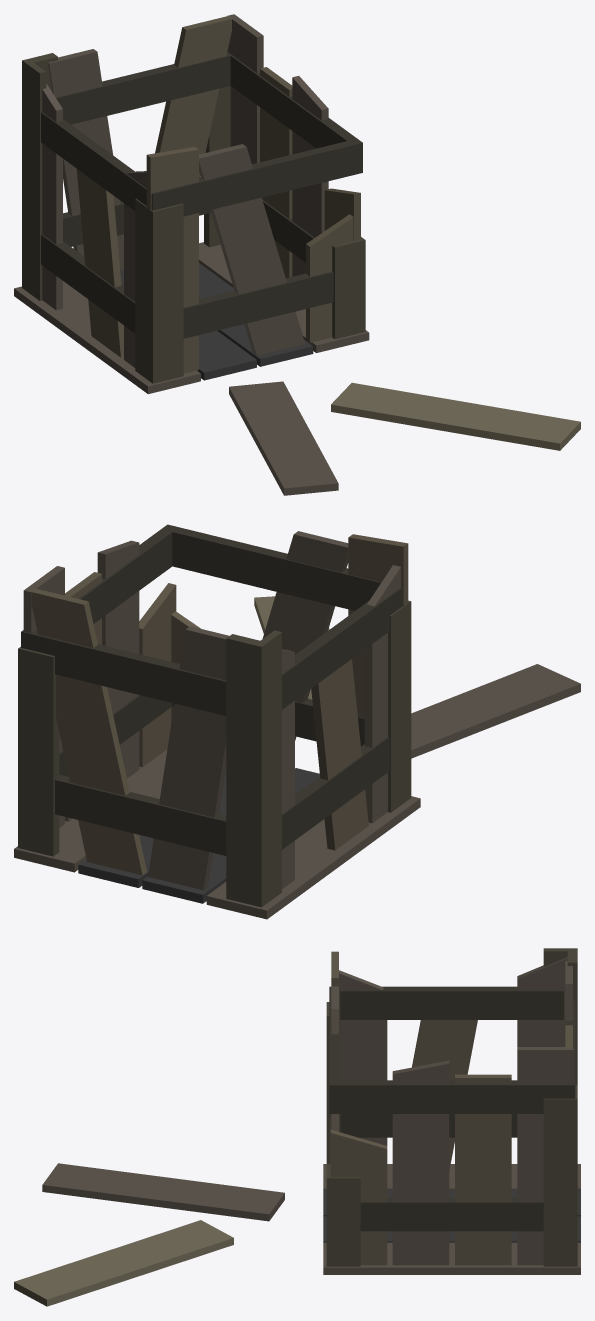
3 views of the same model, one above another, from view 1: azimuth 30°, elevation 25°; view 2: azimuth 150°, elevation 25°; view 3: azimuth 270°, elevation 25° (orthographic). The views are drawn at different scales.
Parts seen in each view (by area): view 1: Box_4, Plank_1, Plank_2; view 2: Box_4, Plank_2; view 3: Box_4, Plank_2, Plank_1.
Part boxes in pixels (box(x1,y1,x2,y2)): Box_4: box(14, 14, 369, 394); Plank_1: box(331, 382, 580, 450); Plank_2: box(229, 381, 338, 495); Box_4: box(14, 524, 420, 919); Plank_2: box(411, 664, 580, 758); Box_4: box(323, 948, 580, 1274); Plank_2: box(42, 1163, 284, 1221); Plank_1: box(14, 1220, 233, 1306).
Bounding box in the file's own units: 74.74 × 57.75 × 131.
Materials: 1 (1 with a texture image).
